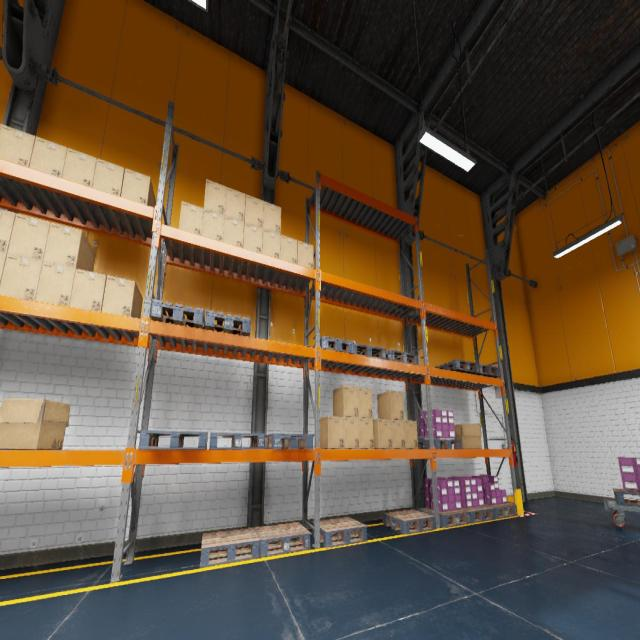box: (0, 398, 70, 449), (43, 222, 95, 272), (8, 213, 50, 261), (0, 253, 42, 299), (35, 261, 75, 306), (101, 275, 142, 318), (69, 269, 107, 311), (29, 136, 67, 177), (0, 123, 35, 167), (121, 168, 156, 207), (62, 148, 96, 186), (92, 158, 125, 196), (333, 385, 359, 417), (179, 201, 203, 235), (377, 390, 404, 420), (204, 179, 226, 215), (320, 416, 344, 448), (0, 208, 16, 254), (454, 423, 482, 449), (225, 186, 245, 222), (202, 209, 224, 241), (244, 194, 264, 228), (223, 216, 244, 247), (242, 222, 262, 253), (263, 201, 281, 234), (373, 418, 392, 448), (262, 229, 280, 258), (280, 234, 297, 264), (359, 417, 374, 449), (344, 416, 359, 448), (358, 387, 373, 418), (297, 240, 313, 268), (392, 419, 406, 449), (404, 419, 418, 448), (0, 252, 7, 285), (0, 123, 1, 129)
pallets: (200, 527, 260, 568), (254, 522, 311, 558), (312, 516, 367, 548), (150, 299, 205, 329), (383, 509, 436, 535), (138, 430, 208, 449), (205, 310, 251, 336), (309, 336, 354, 359), (420, 508, 471, 528), (209, 432, 265, 449), (265, 433, 313, 449), (450, 506, 496, 522), (475, 503, 517, 519), (435, 359, 479, 374), (462, 363, 500, 378), (354, 343, 386, 359), (612, 488, 640, 506), (386, 350, 418, 364), (418, 439, 462, 449)
